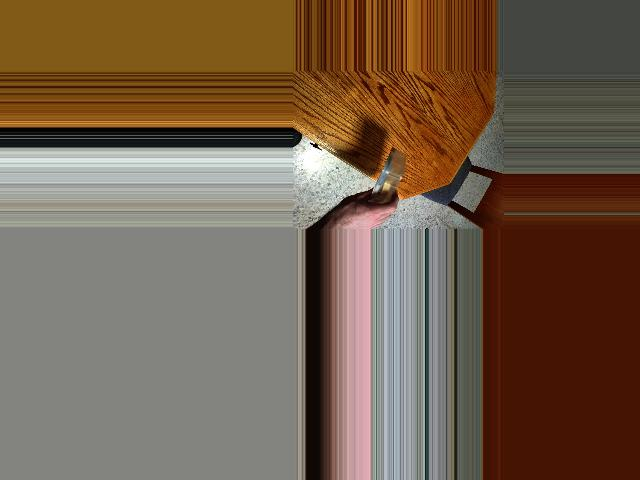cheese: (371, 145, 406, 211)
